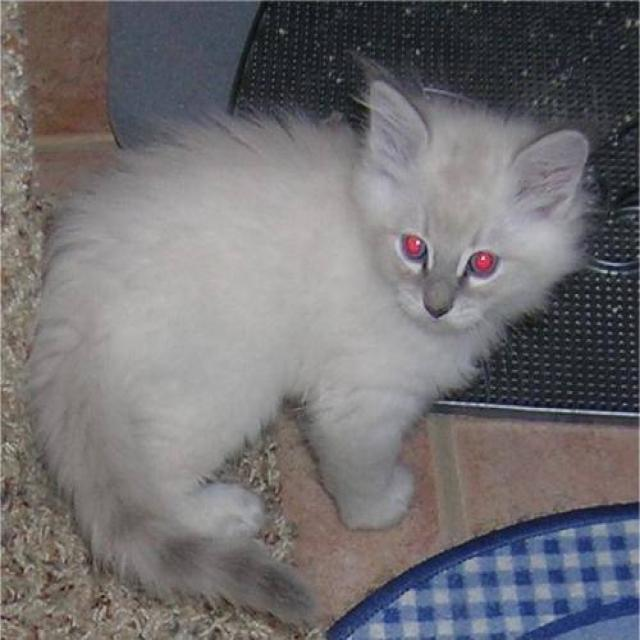cat: (23, 48, 598, 627)
